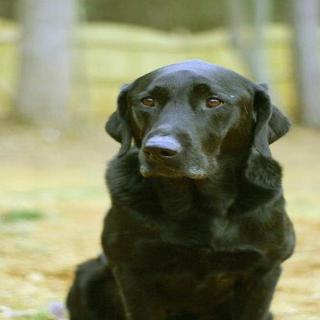dog: (91, 51, 297, 196)
nose: (139, 134, 184, 160)
